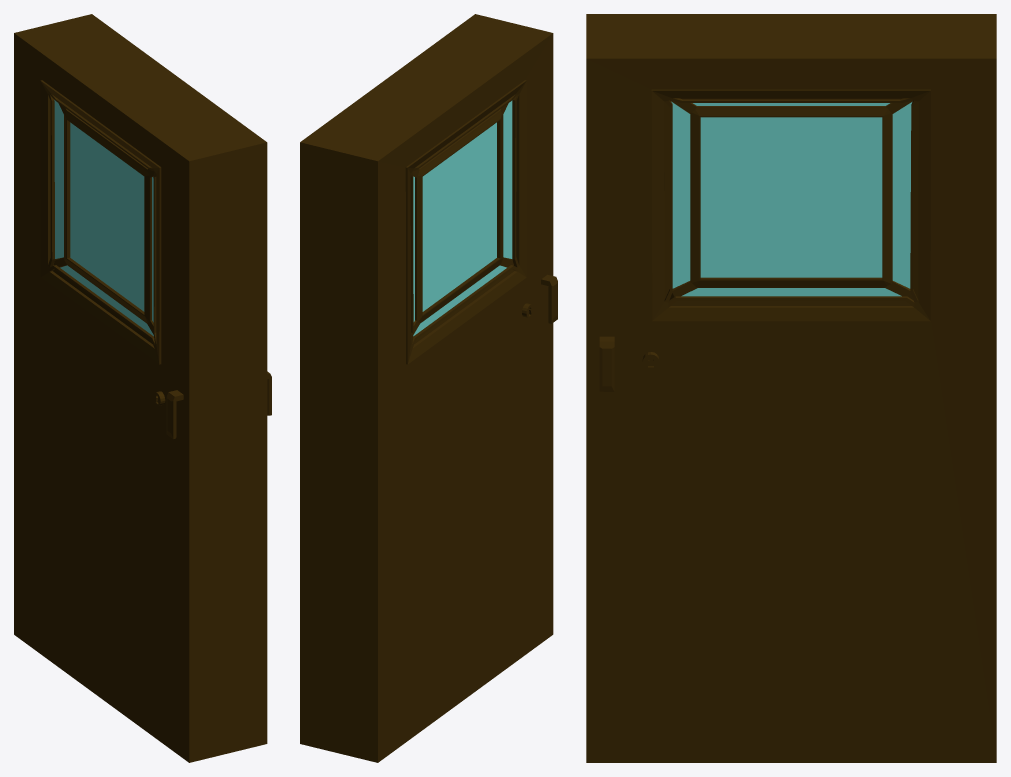
The model's file is Door.fbx.
3 views of the same model, side by side, from view 1: azimuth 30°, elevation 25°; view 2: azimuth 150°, elevation 25°; view 3: azimuth 270°, elevation 25° (orthographic). The views are drawn at different scales.
Visible parts, largest first — view 1: Door; view 2: Door; view 3: Door.
Boxes of the visible parts, bbox=[...] form: Door: bbox=[14, 14, 271, 762]; Door: bbox=[300, 14, 557, 762]; Door: bbox=[586, 14, 996, 762].
Size of the model in its own units: 163 by 938 by 495.
